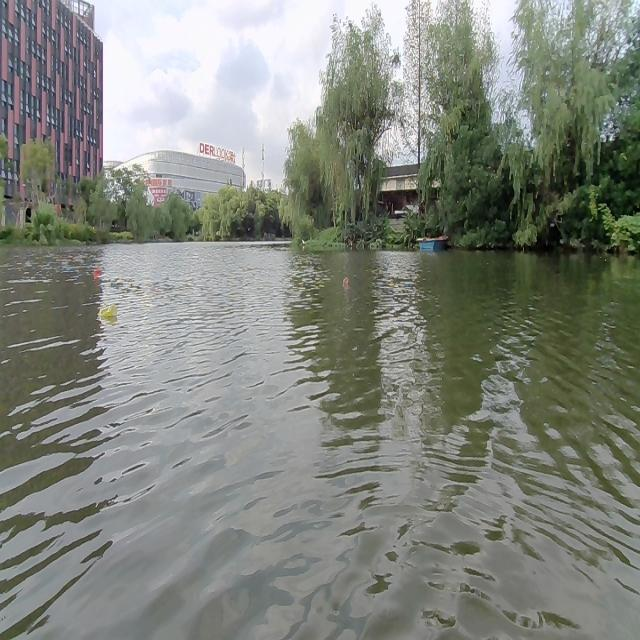bottle: (98, 299, 116, 321), (92, 265, 102, 279), (342, 276, 348, 290)
